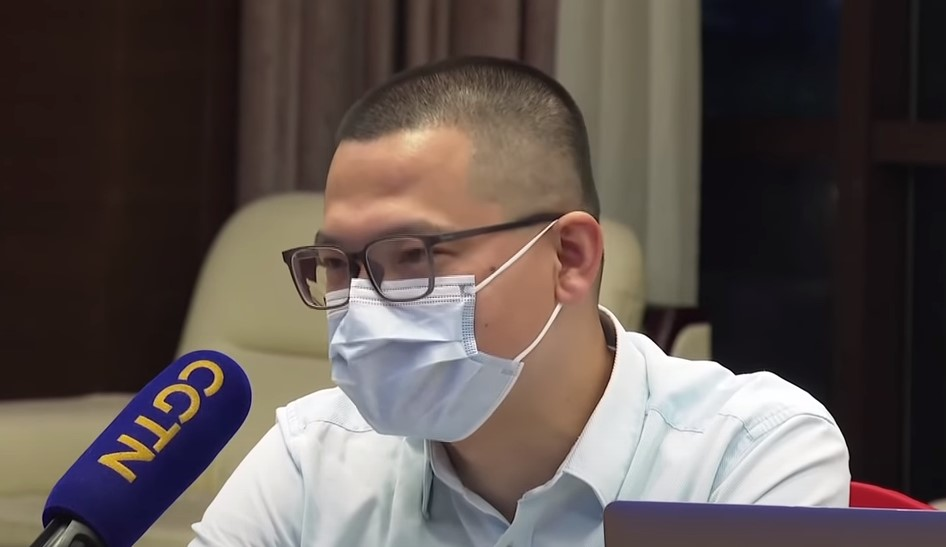face_with_mask: (280, 69, 603, 447)
